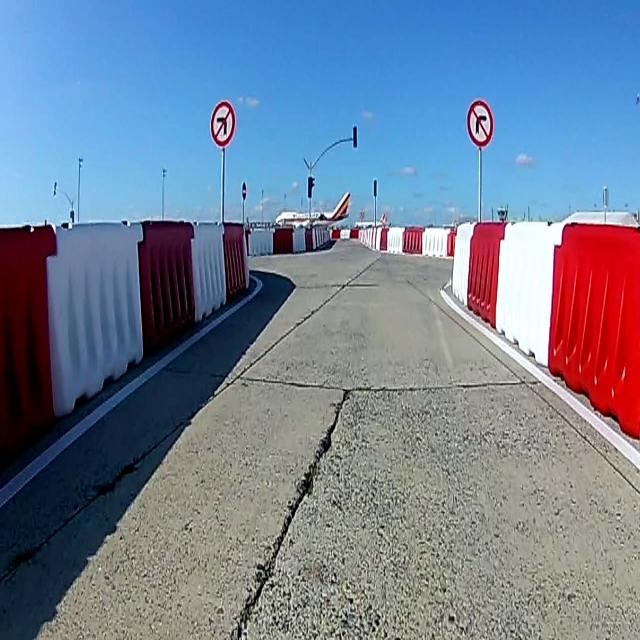sagadonulmez: (468, 96, 490, 148)
soladonulmez: (209, 100, 235, 145)
